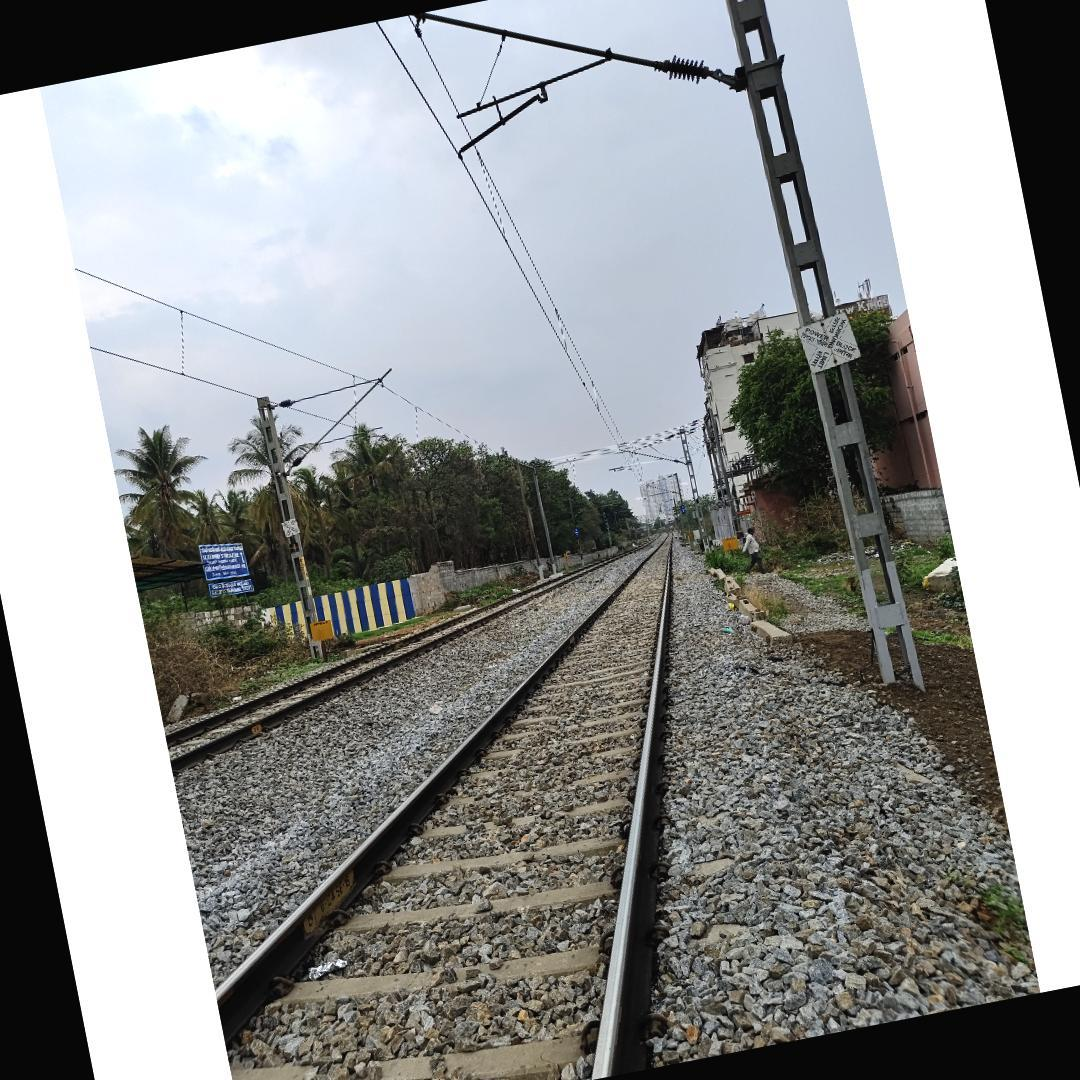standing: (735, 524, 767, 576)
track: (214, 534, 667, 1080)
